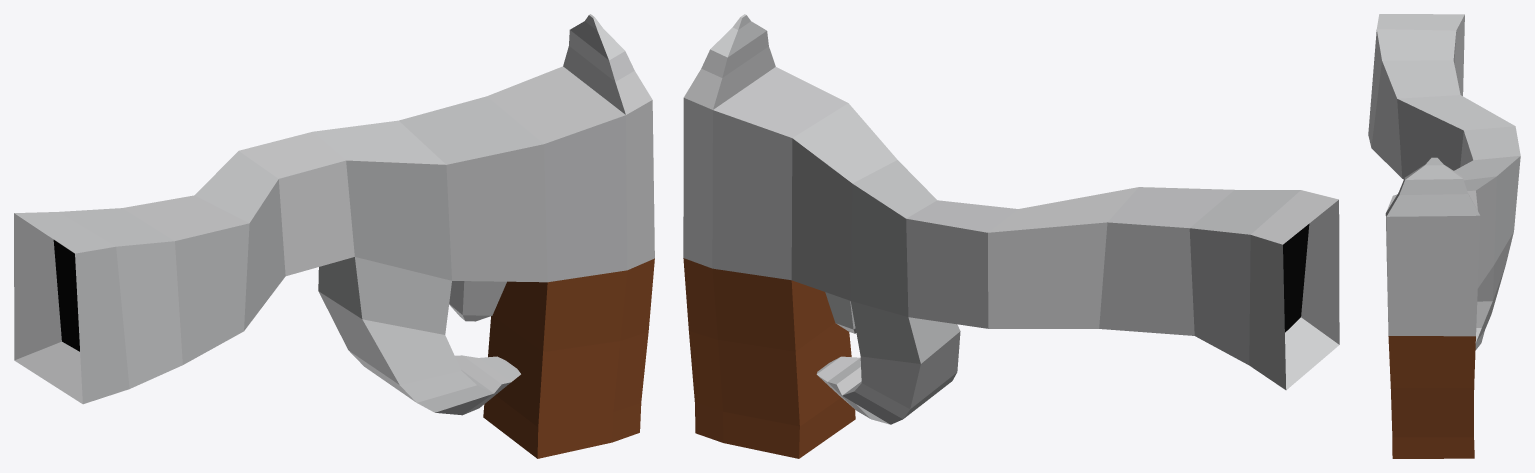
The model's file is firstGun.fbx.
3 views of the same model, side by side, from view 1: azimuth 30°, elevation 25°; view 2: azimuth 150°, elevation 25°; view 3: azimuth 270°, elevation 25° (orthographic). The views are drawn at different scales.
Parts seen in each view (by area): view 1: Plane; view 2: Plane; view 3: Plane.
Part boxes in pixels (x1=…): Plane: x1=14, y1=14, x2=654, y2=458; Plane: x1=683, y1=14, x2=1339, y2=458; Plane: x1=1368, y1=14, x2=1520, y2=458.
Size of the model in its own units: 771 by 504 by 235.
